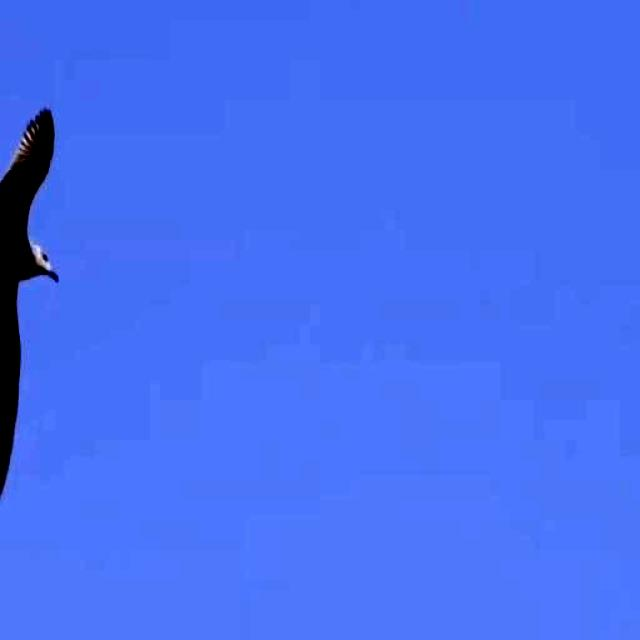airplane: (0, 80, 76, 516)
